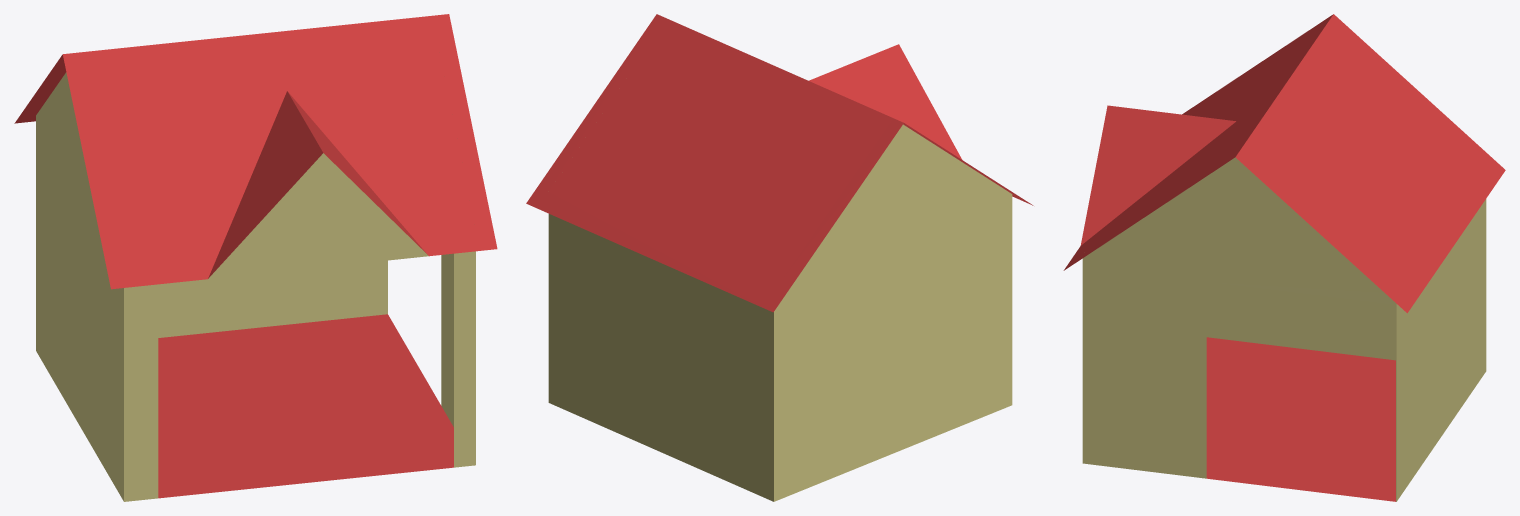
3 views of the same model, side by side, from view 1: azimuth 30°, elevation 25°; view 2: azimuth 150°, elevation 25°; view 3: azimuth 270°, elevation 25° (orthographic). The views are drawn at different scales.
Size of the model in its own units: 13.88 by 13.99 by 11.57.
